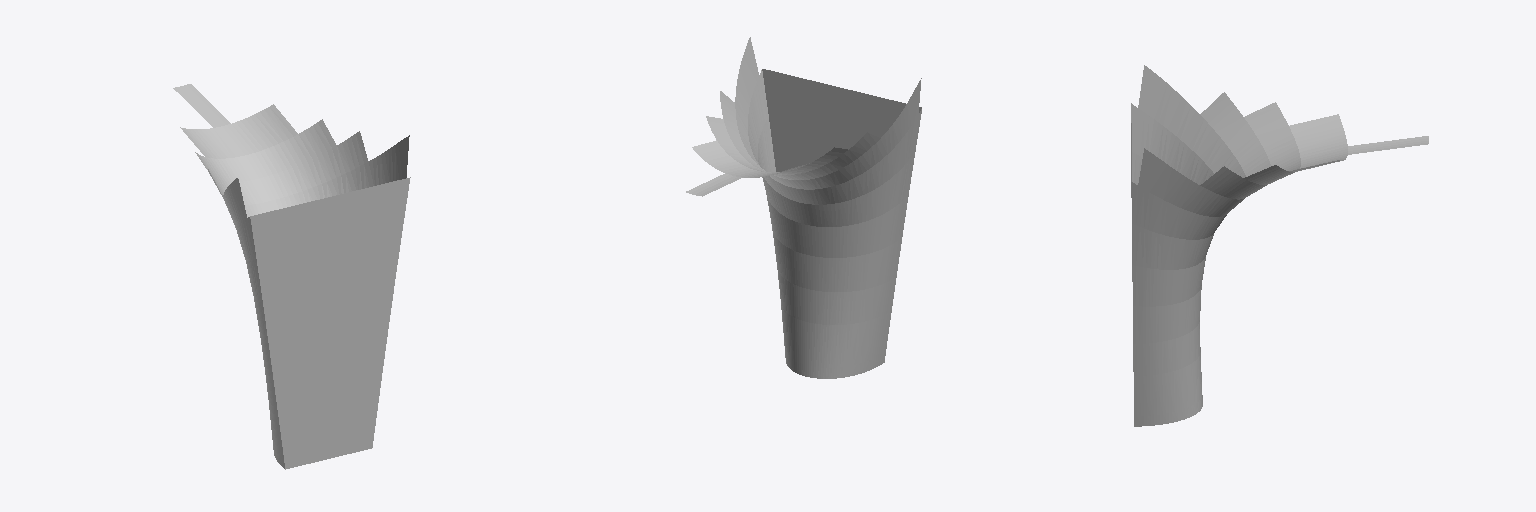
File: S_manico.obj
3 views of the same model, side by side, from view 1: azimuth 30°, elevation 25°; view 2: azimuth 150°, elevation 25°; view 3: azimuth 270°, elevation 25° (orthographic).
Visible parts, largest first — view 1: manico; view 2: manico; view 3: manico.
Part boxes in pixels (x1,y1,x2,y2): manico: (173, 84, 410, 469); manico: (686, 37, 921, 378); manico: (1131, 65, 1428, 426).
Size of the model in its own units: 0.0503 by 0.0838 by 0.0755.